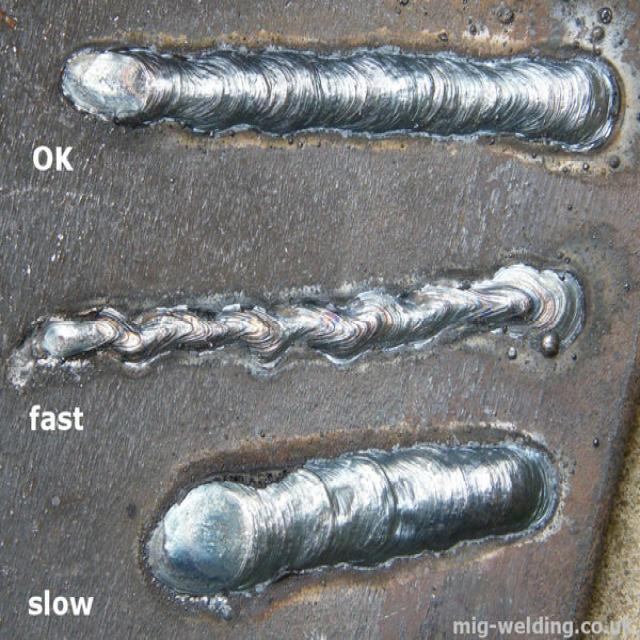Bad Weld: (17, 262, 586, 368), (154, 439, 554, 586)
Good Weld: (59, 39, 616, 151)
